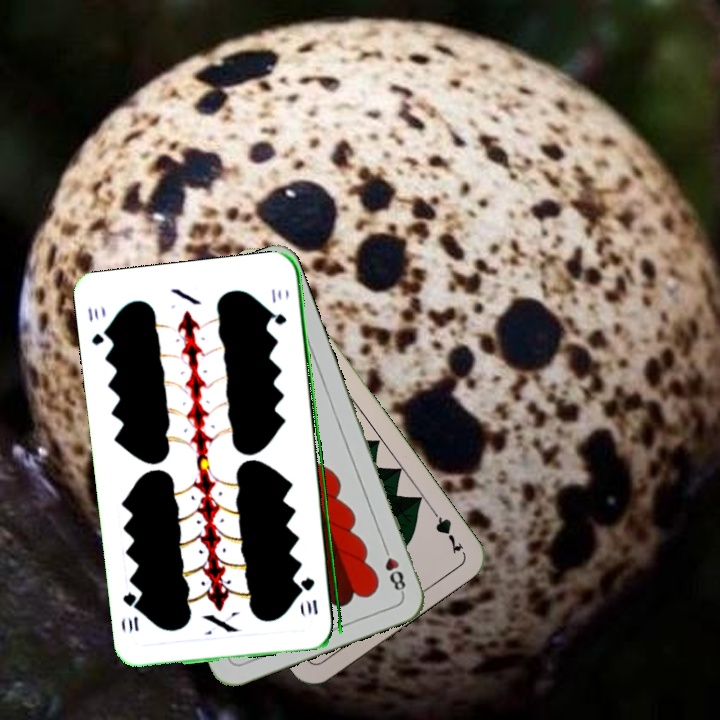G10: (83, 302, 113, 348), (300, 573, 320, 617)
G7: (425, 503, 467, 556)
H8: (378, 539, 409, 596)
